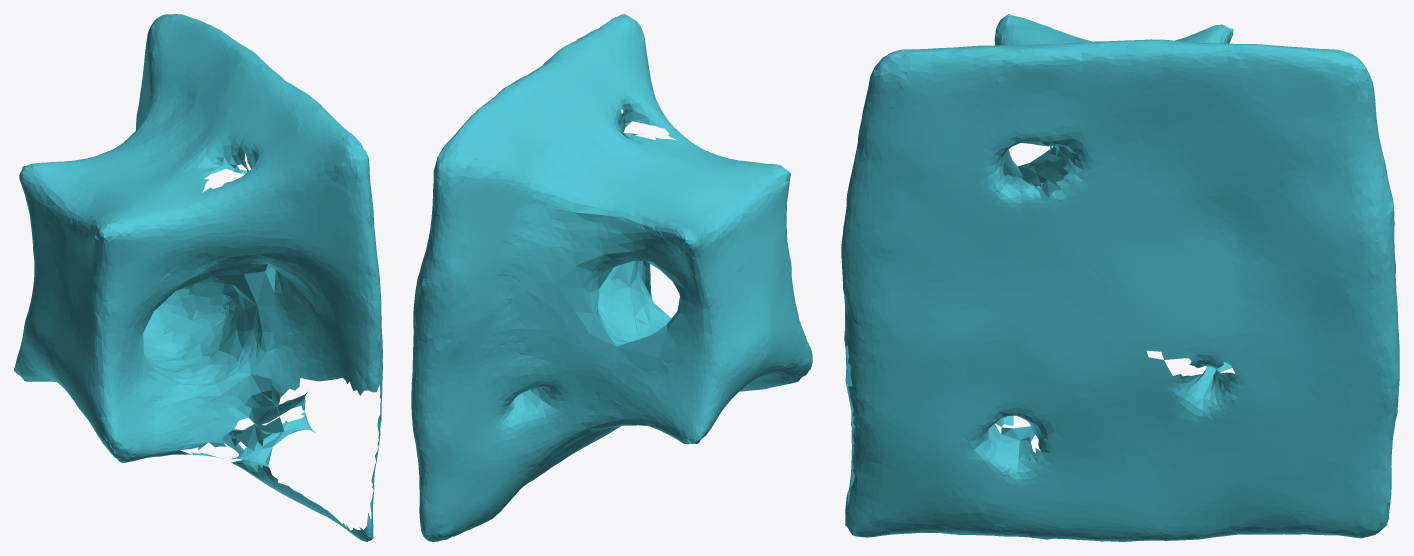
The picture shows the model from 3 angles, left to right: view 1: azimuth 30°, elevation 25°; view 2: azimuth 150°, elevation 25°; view 3: azimuth 270°, elevation 25°; orthographic projection. The views are drawn at different scales.
Parts seen in each view (by area): view 1: Renderer Node; view 2: Renderer Node; view 3: Renderer Node.
Boxes of the visible parts, bbox=[...] form: Renderer Node: bbox=[14, 14, 382, 541]; Renderer Node: bbox=[411, 14, 812, 541]; Renderer Node: bbox=[841, 14, 1399, 541].
Size of the model in its own units: 0.3964 by 0.6289 by 0.6342.
1 material, 1 textured.
